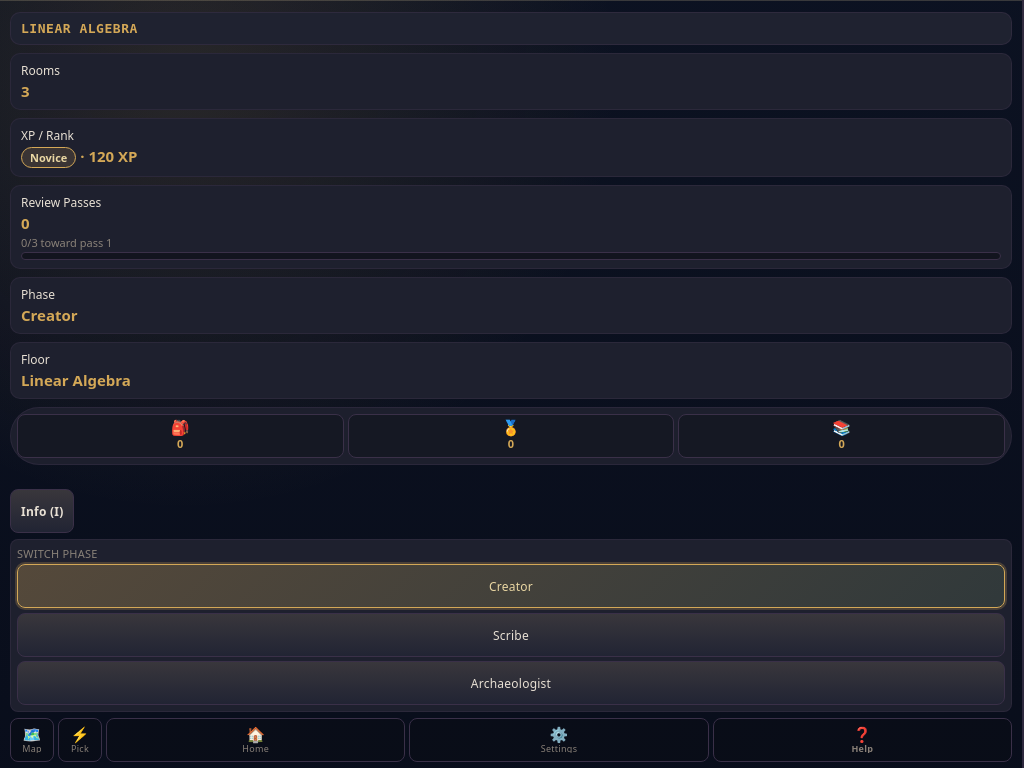
it: Hud › asks for confirmation before phase switch when flow-sensitive UI is active
Step 1. Click the button "Scribe" → [511, 635], box [17, 613, 1005, 657]
(page scrolled)
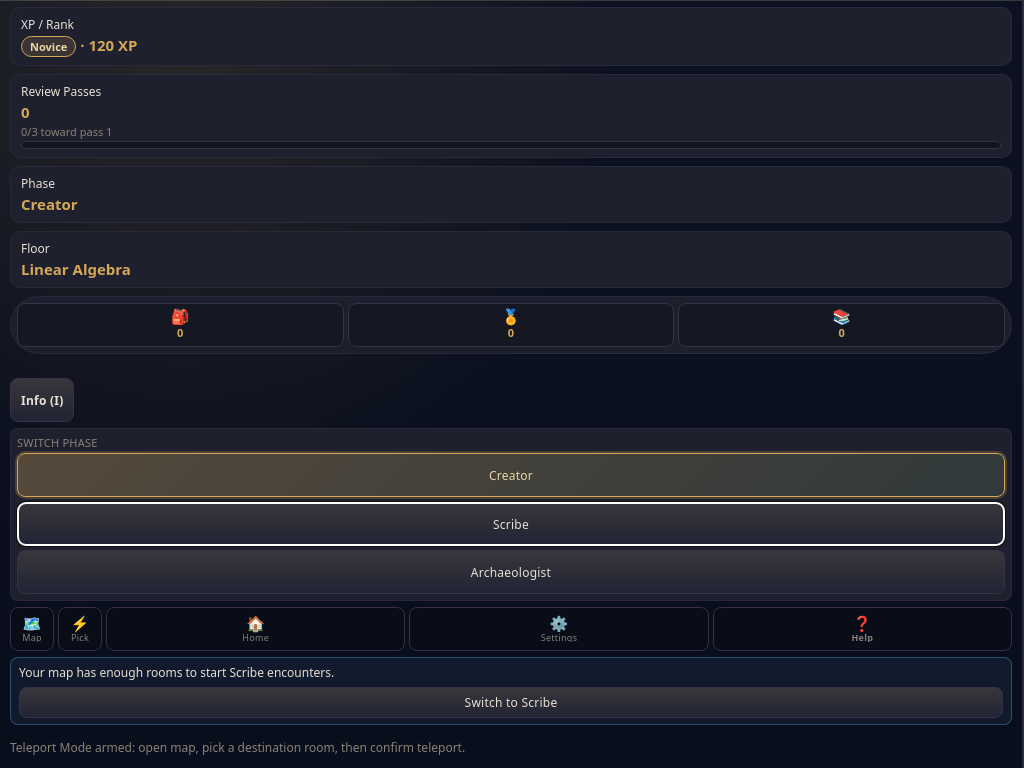
Expected: the button with aria-label "Open help" is shown, [713, 607, 1012, 651]
Expected: the text "Teleport Mode armed: open map, pick a destination room, then confirm teleport." is shown, [10, 739, 465, 756]
Expected: the text "Your map has enough rooms to start Scribe encounters." is shown, [19, 664, 334, 681]
